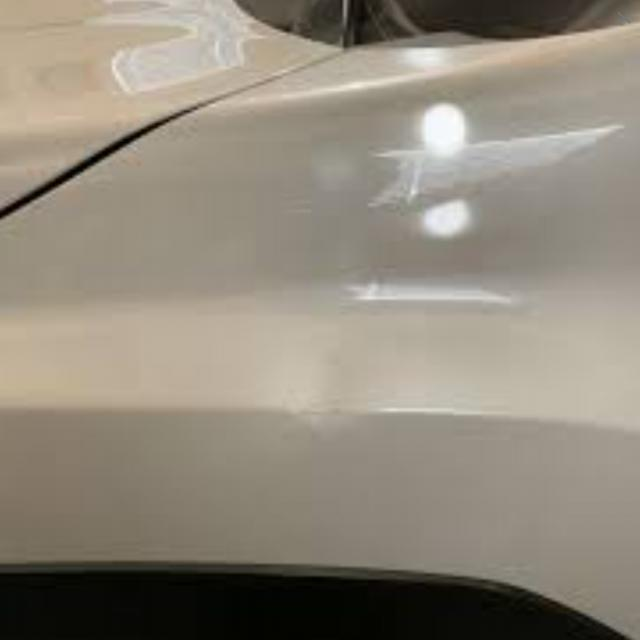dents: (236, 316, 430, 472)
